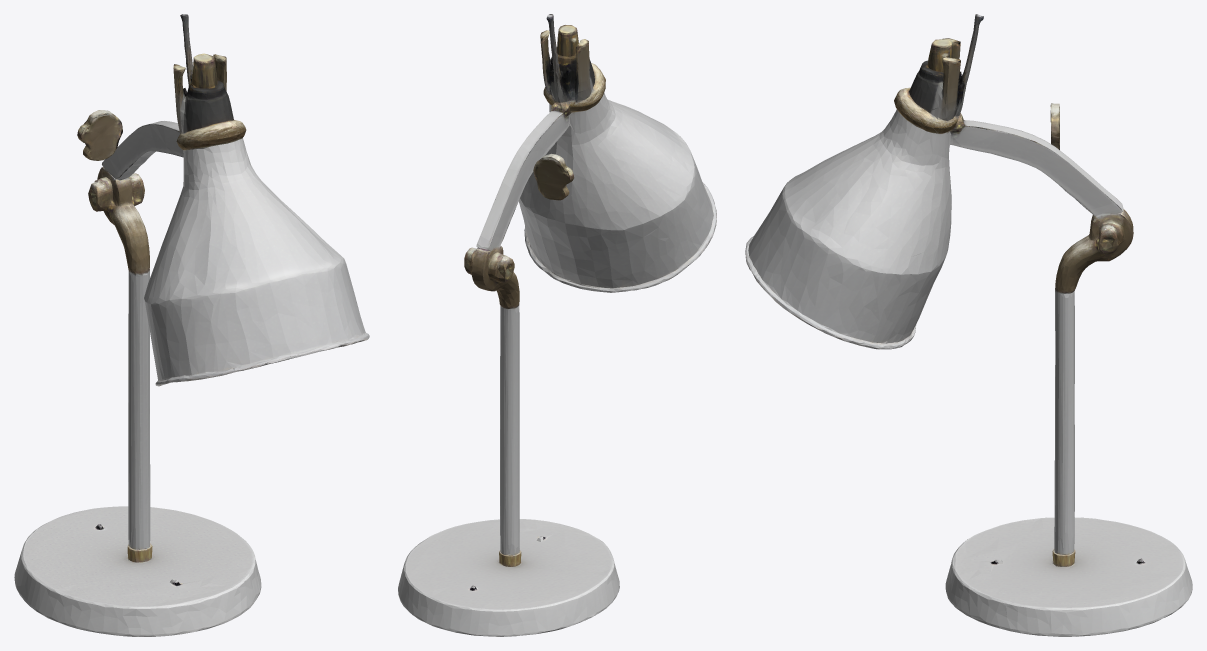
File: 5708364e-5d8c-41b9-beb1-59845cc3d06b.glb
The picture shows the model from 3 angles, left to right: view 1: azimuth 30°, elevation 25°; view 2: azimuth 150°, elevation 25°; view 3: azimuth 270°, elevation 25°; orthographic projection. The views are drawn at different scales.
Parts seen in each view (by area): view 1: world; view 2: world; view 3: world.
Boxes of the visible parts, left/top/right/bottom form: world: left=14, top=14, right=369, bottom=636; world: left=398, top=14, right=716, bottom=636; world: left=745, top=14, right=1192, bottom=636.
Bounding box in the file's own units: 0.3621 × 0.9963 × 0.7033.
1 material, 1 textured.
